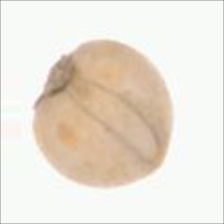L5: (71, 75, 161, 167), (33, 49, 77, 110)
L6: (27, 37, 175, 190)
